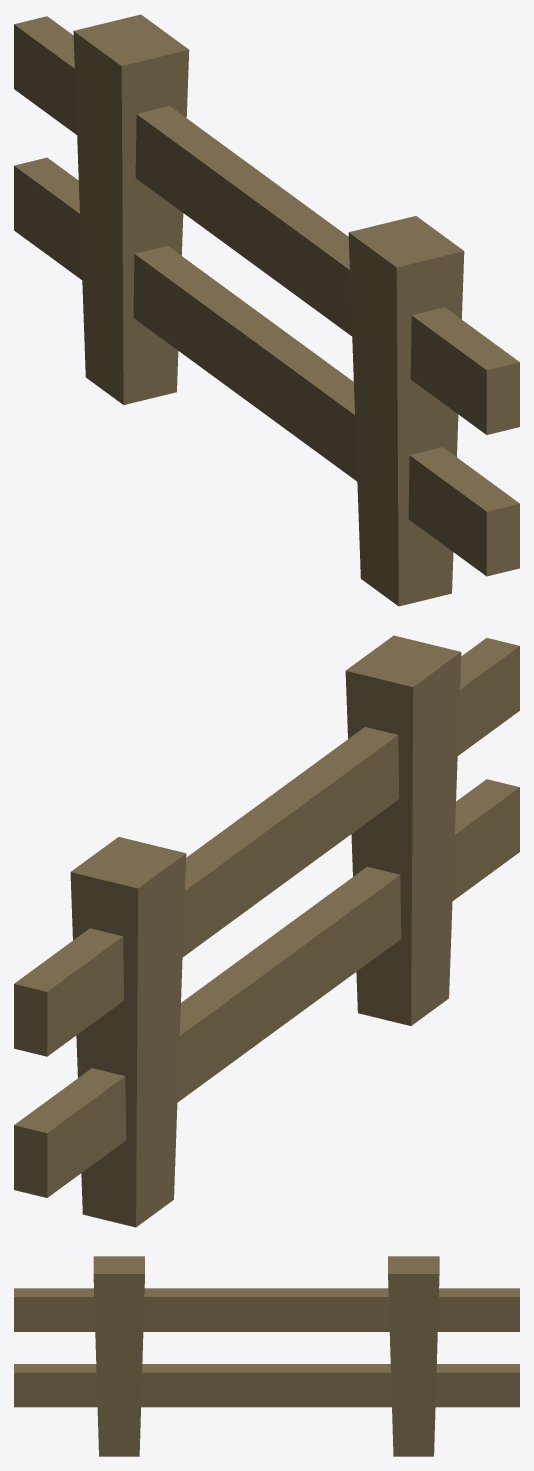
The model's file is Fence 2.fbx.
The picture shows the model from 3 angles, top to bottom: view 1: azimuth 30°, elevation 25°; view 2: azimuth 150°, elevation 25°; view 3: azimuth 270°, elevation 25°; orthographic projection. The views are drawn at different scales.
Parts seen in each view (by area): view 1: pCube17; view 2: pCube17; view 3: pCube17.
Boxes of the visible parts, <box> form: pCube17: <box>14,14,519,606</box>; pCube17: <box>14,635,519,1227</box>; pCube17: <box>14,1256,519,1456</box>.
Bounding box in the file's own units: 3.67 × 17.88 × 44.49.
